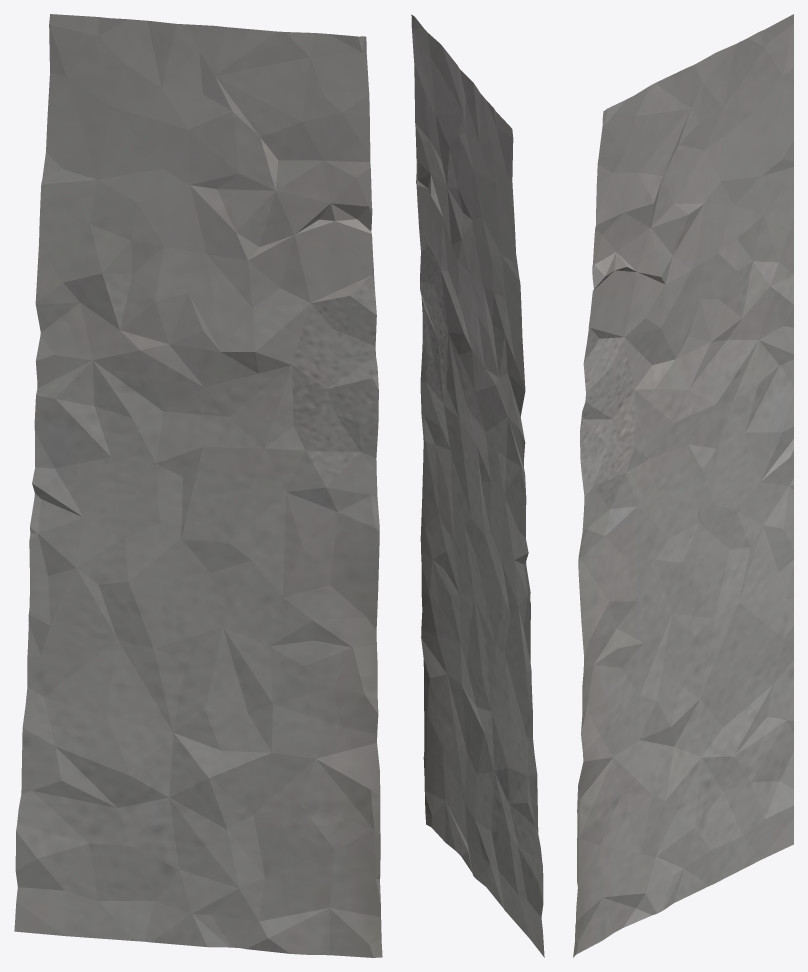
3 renders of one model, left to right at view 1: azimuth 30°, elevation 25°; view 2: azimuth 150°, elevation 25°; view 3: azimuth 270°, elevation 25°, orthographic. The views are drawn at different scales.
Bounding box in the file's own units: 0.2407 × 0.8374 × 0.1979.
Materials: 1 (1 with a texture image).
